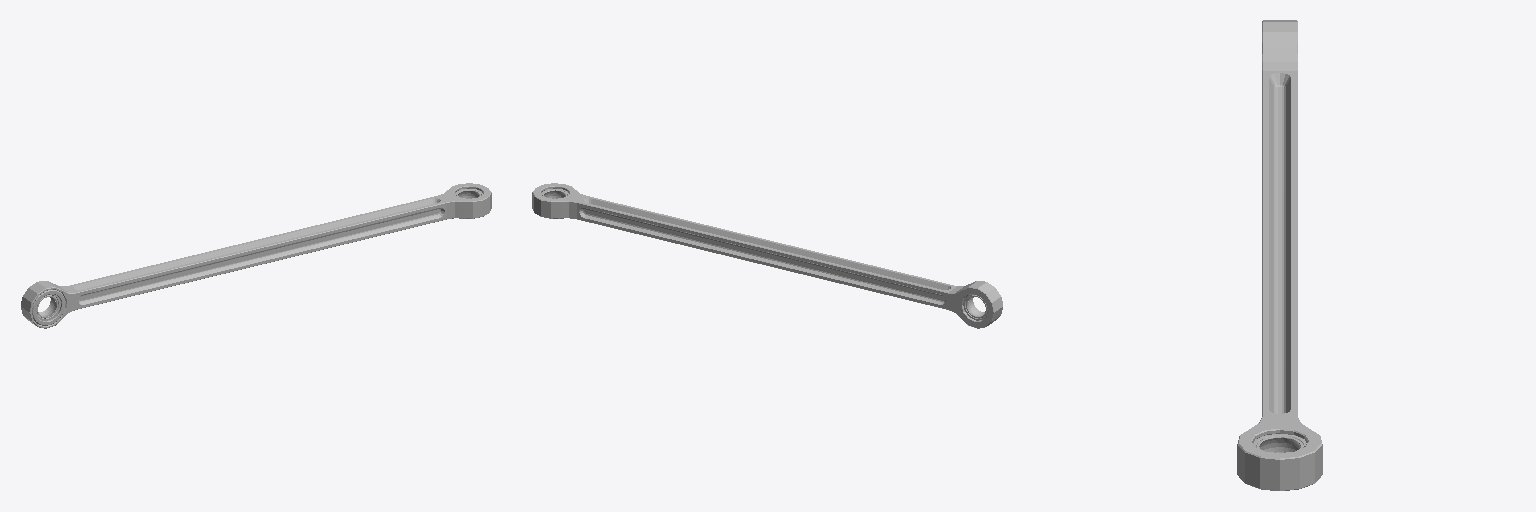
The robot description file, URDF, robot "long linkage":
<?xml version="1.0" encoding="utf-8"?>
<!-- This URDF was automatically created by SolidWorks to URDF Exporter! Originally created by Stephen Brawner (brawner@gmail.com) 
     Commit Version: 1.6.0-4-g7f85cfe  Build Version: 1.6.7995.38578
     For more information, please see http://wiki.ros.org/sw_urdf_exporter -->
<robot
  name="long linkage">
  <link
    name="long_linkage">
    <inertial>
      <origin
        xyz="-0.125000348333084 4.22189190520209E-06 -0.00487016541039477"
        rpy="0 0 0" />
      <mass
        value="0.151472257163149" />
      <inertia
        ixx="3.81594951236455E-06"
        ixy="8.78326710537431E-07"
        ixz="-8.78703340172108E-07"
        iyy="0.000868155090842529"
        iyz="4.02056072010766E-10"
        izz="0.000868209009117137" />
    </inertial>
    <visual>
      <origin
        xyz="0 0 0"
        rpy="0 0 0" />
      <geometry>
        <mesh
          filename="package://long linkage/meshes/long_linkage.STL" />
      </geometry>
      <material
        name="">
        <color
          rgba="0.752941176470588 0.752941176470588 0.752941176470588 1" />
      </material>
    </visual>
    <collision>
      <origin
        xyz="0 0 0"
        rpy="0 0 0" />
      <geometry>
        <mesh
          filename="package://long linkage/meshes/long_linkage.STL" />
      </geometry>
    </collision>
  </link>
</robot>

--- Facts derived from the render (not from the file) ---
Views: 3 orthographic renders of the robot side by side, from view 1: azimuth 30°, elevation 25°; view 2: azimuth 150°, elevation 25°; view 3: azimuth 270°, elevation 25°.
Model long linkage with 1 links and 0 joints (none), rooted at long_linkage, posed all joints at 0.
Visible links, largest first — view 1: long_linkage; view 2: long_linkage; view 3: long_linkage.
Boxes of the visible links, x1,y1,x2,y2 form: long_linkage: (21, 183, 491, 328); long_linkage: (532, 183, 1002, 328); long_linkage: (1237, 20, 1322, 490).
Size in the robot's own frame: 0.273 by 0.0228 by 0.0228 metres.
1 mesh visuals loaded from 1 distinct referenced files (1 binary STL).
